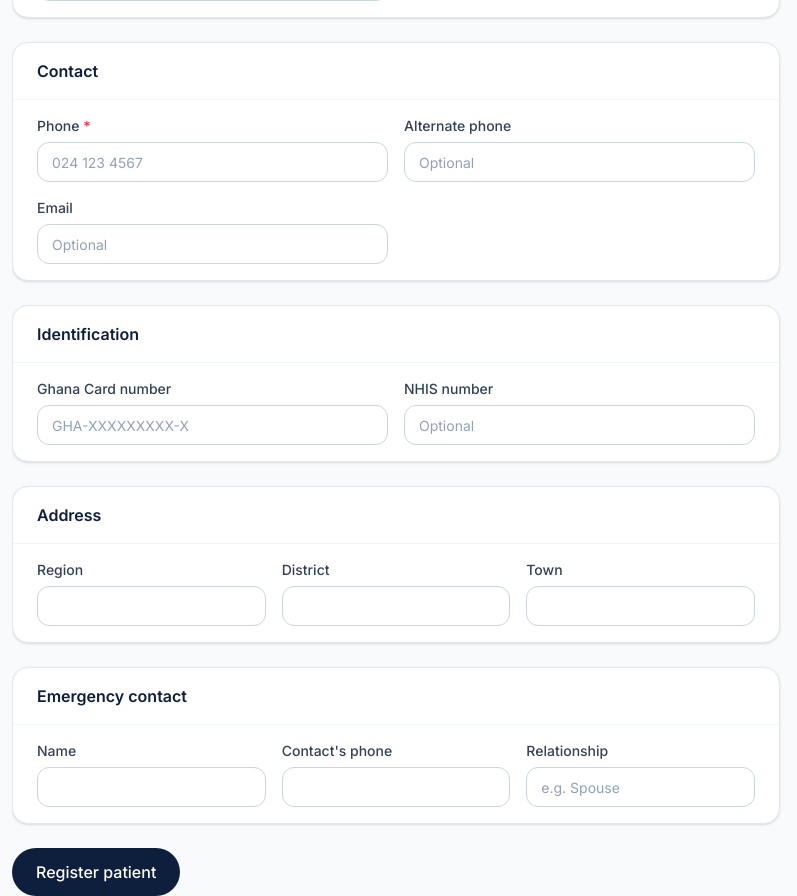
Test: PatientRegister › shows validation errors when required fields are missing
(page scrolled)
Click the button "Register patient".
click(96, 872)  # box [12,848,180,895]
(page scrolled)
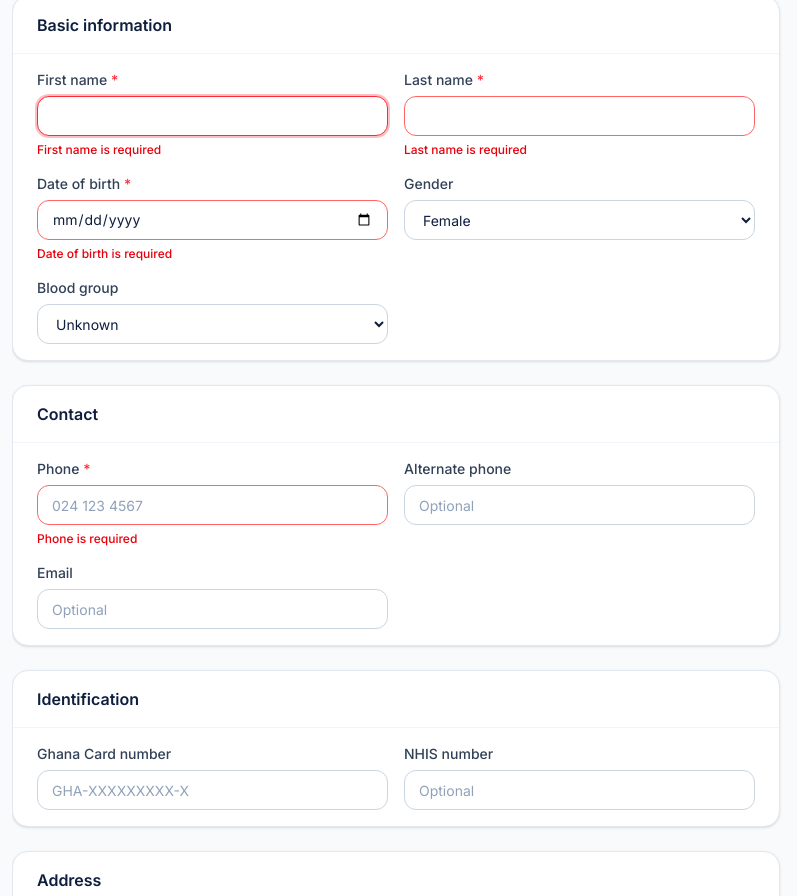
Result: the text "First name is required" is shown at [37,142,161,157]
Result: the text "Last name is required" is shown at [404,142,527,157]
